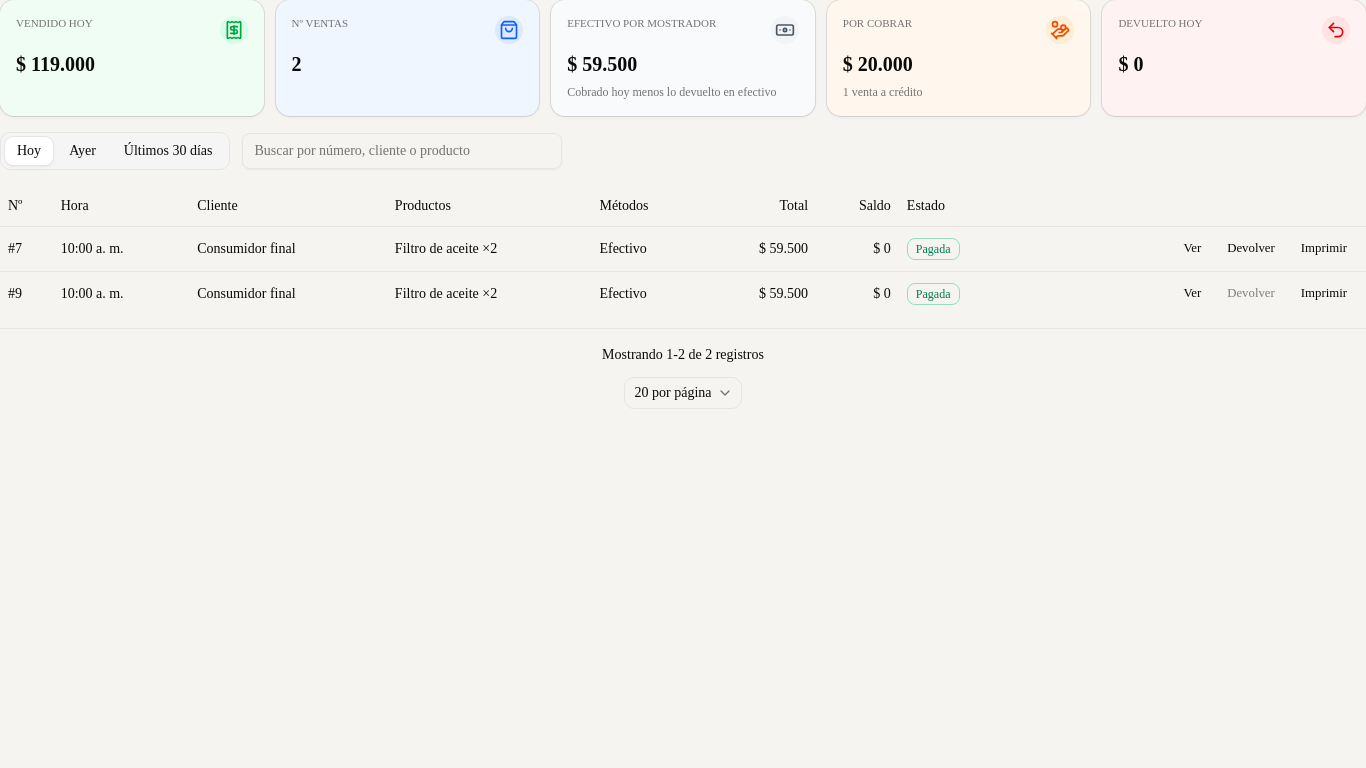
PanelVentas › Devolver abre la devolución; si no se puede, el botón está apagado con el motivo
Expected: the button with aria-label "Devolver de la venta #9" is disabled, [1216, 280, 1286, 308]
Click the button with aria-label "Devolver de la venta #7". click: (1251, 248)
box: [1216, 234, 1286, 262]
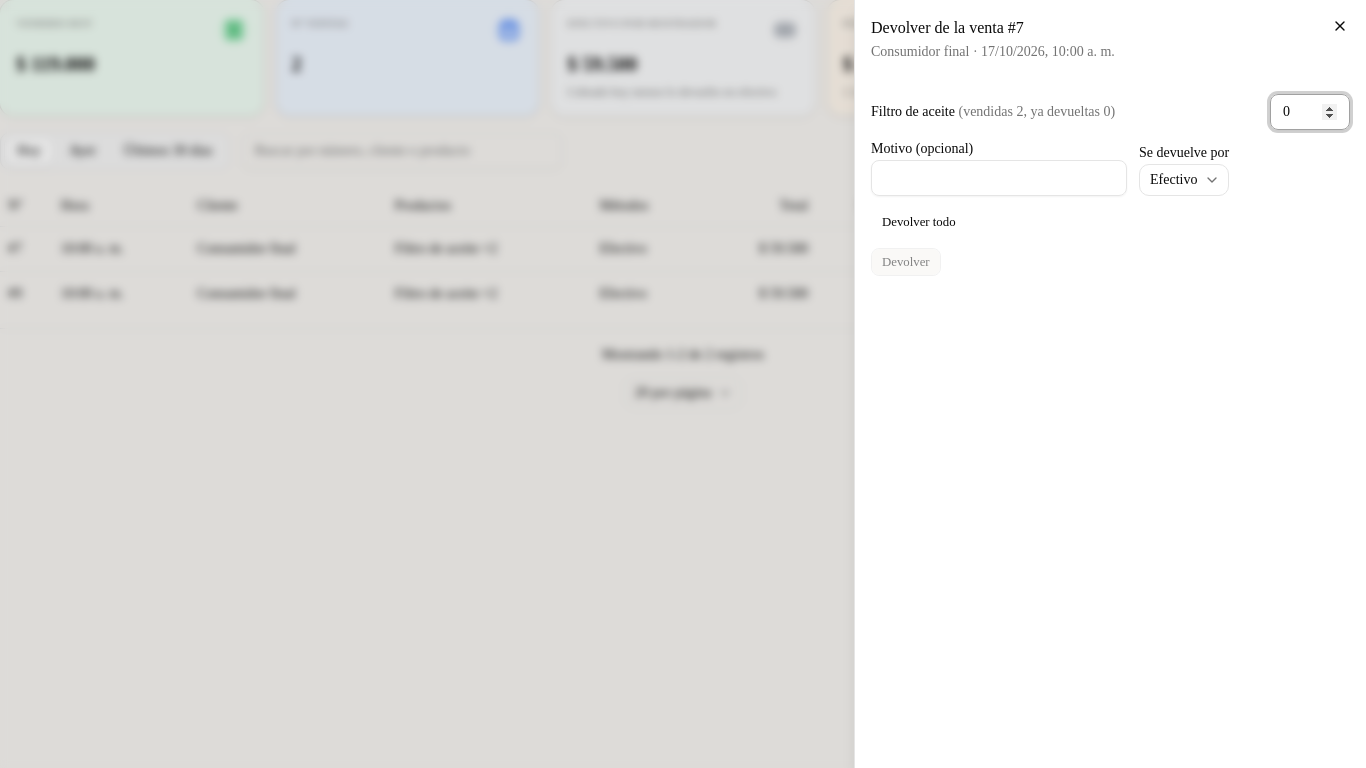
Result: the number field named "Cantidad a devolver de Filtro de aceite" is shown at [1270, 94, 1350, 130]
